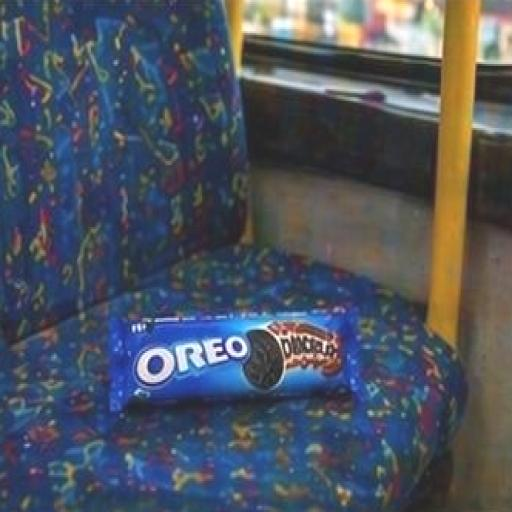oreo: (74, 234, 380, 460)
